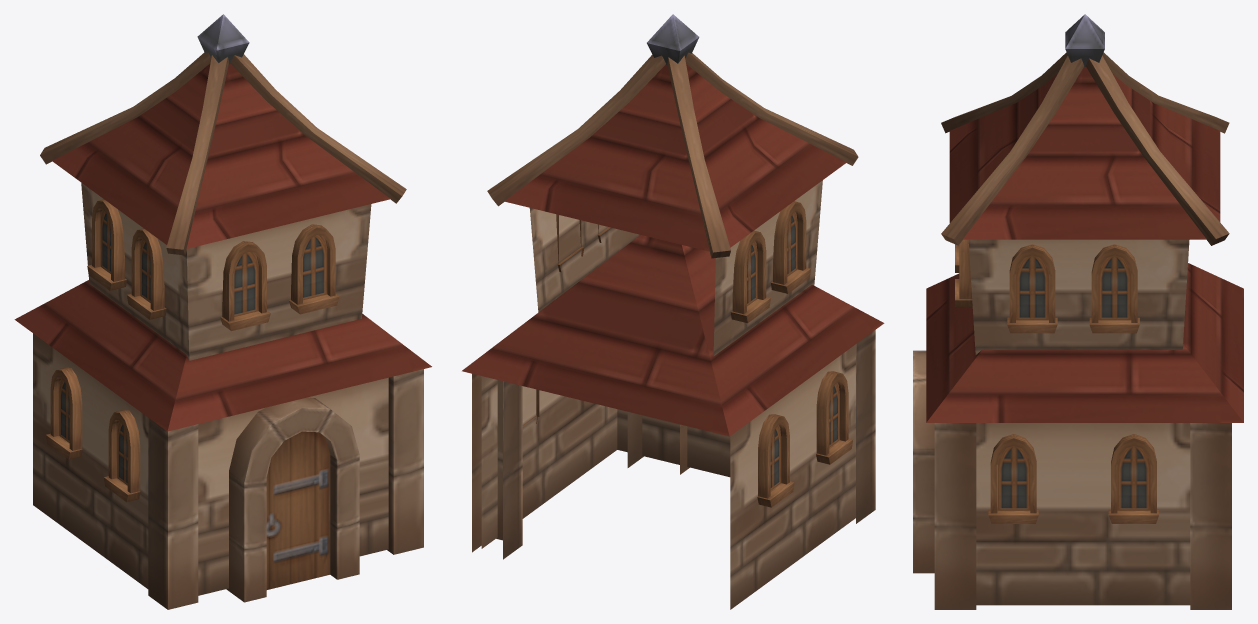
Rendered from all_mine_prop_2.FBX.
3 renders of one model, left to right at view 1: azimuth 30°, elevation 25°; view 2: azimuth 150°, elevation 25°; view 3: azimuth 270°, elevation 25°, orthographic. The views are drawn at different scales.
Visible parts, largest first — view 1: Object425; view 2: Object425; view 3: Object425.
Part boxes in pixels (x1,y1,x2,y2): Object425: (14, 14, 431, 609); Object425: (462, 14, 884, 609); Object425: (913, 14, 1243, 609).
Size of the model in its own units: 88.85 by 161 by 90.5.
